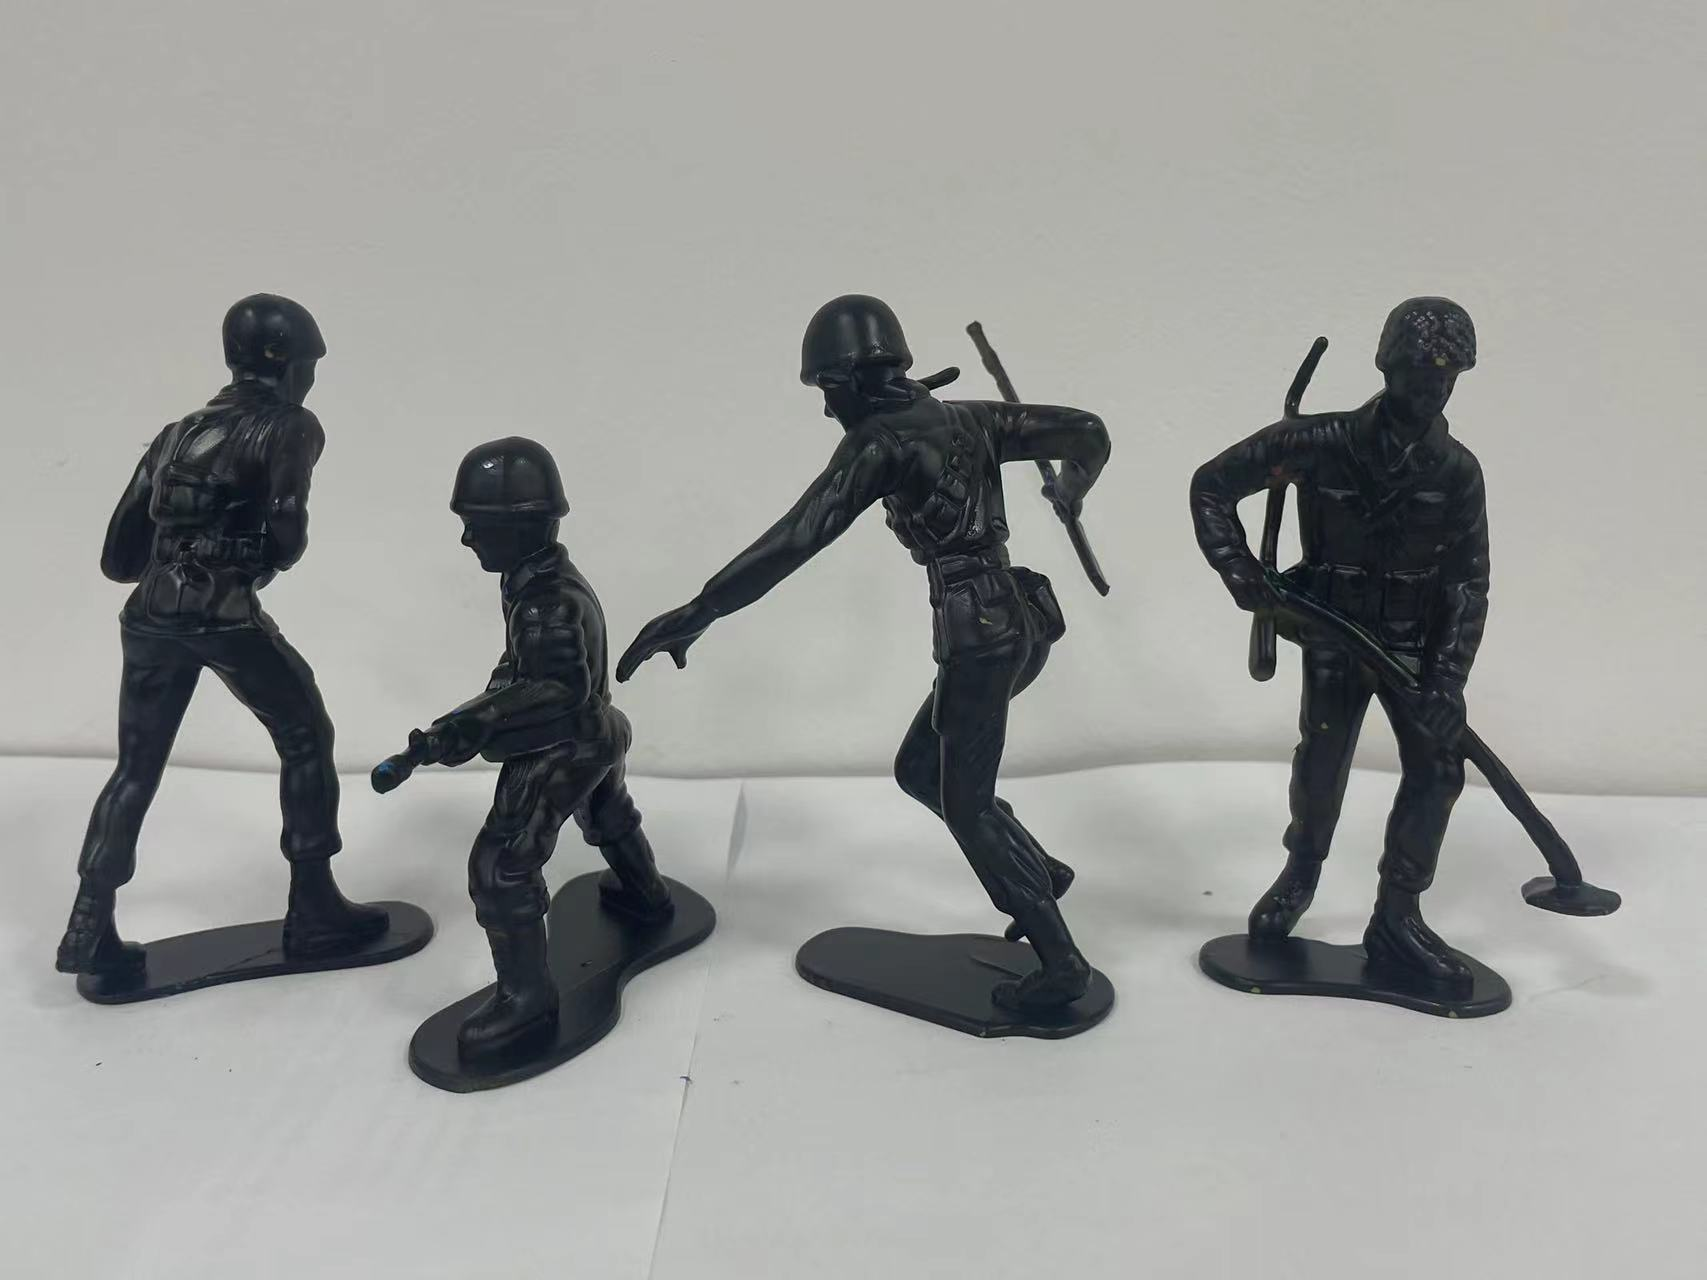black: (676, 250, 1152, 1086), (1172, 278, 1640, 1054), (55, 265, 425, 1041), (376, 415, 745, 1098)
